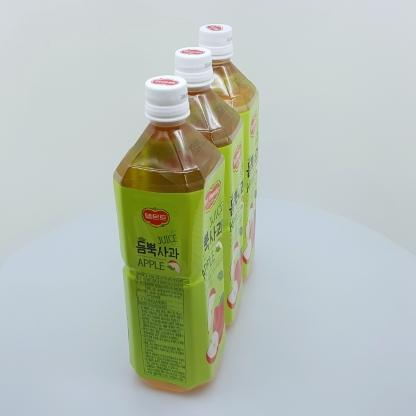----------1L: (113, 75, 226, 392)
